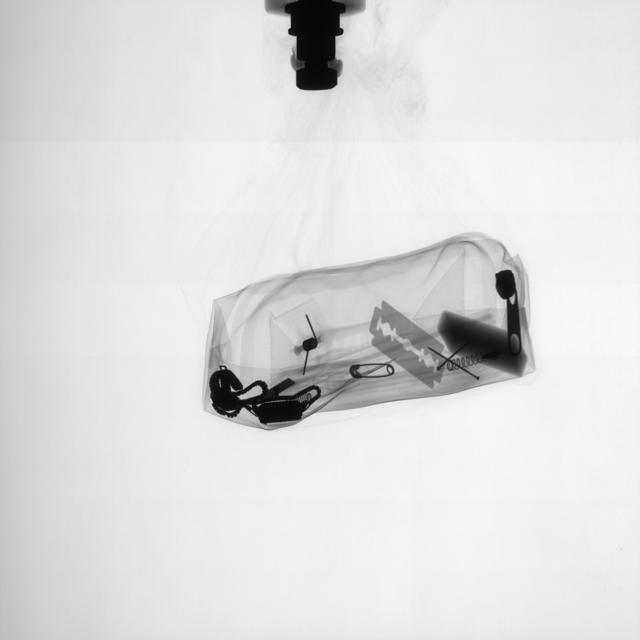pin: (346, 361, 396, 382)
razor: (370, 293, 452, 389)
